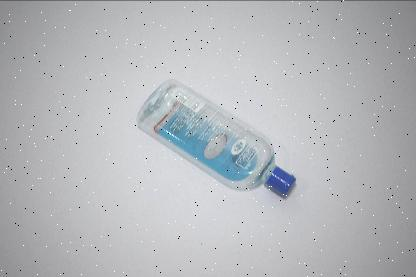Plastic Bottle: (137, 78, 296, 195)
